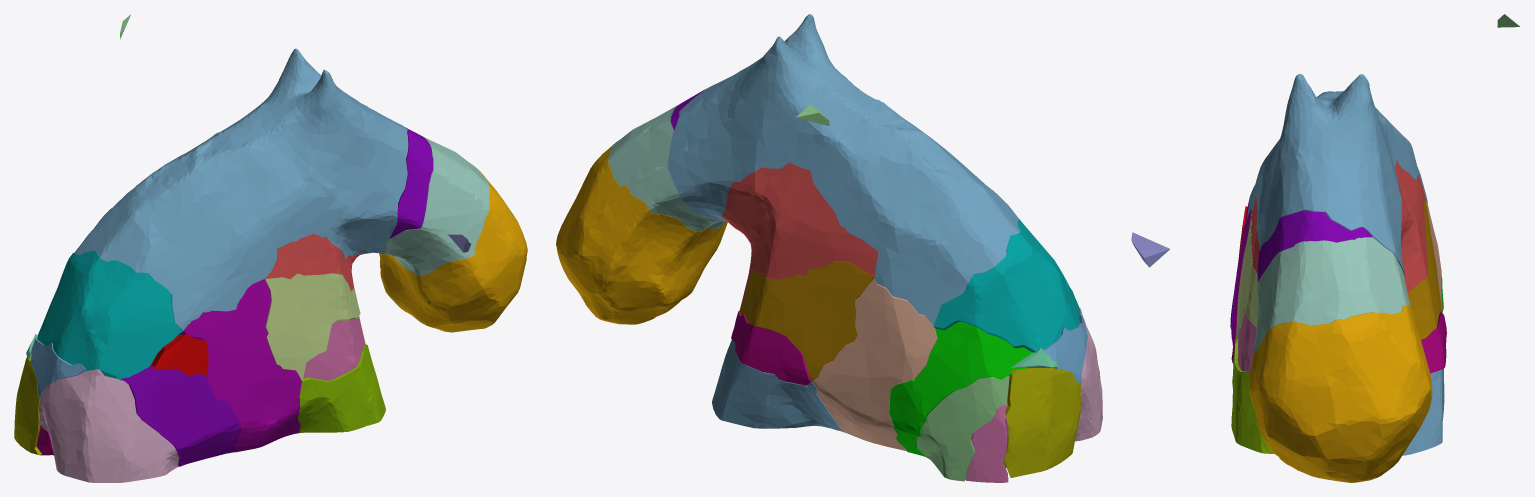
File: fractured_40_28pcs.glb
The picture shows the model from 3 angles, left to right: view 1: azimuth 30°, elevation 25°; view 2: azimuth 150°, elevation 25°; view 3: azimuth 270°, elevation 25°; orthographic projection. The views are drawn at different scales.
Parts seen in each view (by area): view 1: piece_2.obj, piece_13.obj, piece_6.obj, piece_12.obj, piece_0.obj, piece_4.obj, piece_18.obj, piece_5.obj, piece_14.obj, piece_1.obj, piece_16.obj, piece_21.obj (+3 smaller); view 2: piece_2.obj, piece_0.obj, piece_7.obj, piece_1.obj, piece_13.obj, piece_17.obj, piece_8.obj, piece_11.obj, piece_4.obj, piece_3.obj, piece_15.obj, piece_20.obj (+2 smaller); view 3: piece_0.obj, piece_2.obj, piece_4.obj, piece_1.obj, piece_16.obj, piece_14.obj, piece_17.obj, piece_5.obj, piece_15.obj, piece_21.obj, piece_12.obj, piece_26.obj (+1 smaller).
Part boxes in pixels (x1,y1,x2,y2): piece_2.obj: [74, 48, 408, 334]; piece_13.obj: [37, 251, 182, 380]; piece_6.obj: [39, 369, 179, 482]; piece_12.obj: [180, 279, 301, 452]; piece_0.obj: [379, 168, 527, 332]; piece_4.obj: [380, 136, 489, 275]; piece_18.obj: [120, 366, 240, 466]; piece_5.obj: [265, 273, 360, 380]; piece_14.obj: [298, 344, 385, 432]; piece_1.obj: [265, 233, 362, 290]; piece_16.obj: [389, 127, 433, 239]; piece_21.obj: [300, 316, 365, 380]; piece_2.obj: [668, 14, 1020, 430]; piece_0.obj: [556, 144, 727, 324]; piece_7.obj: [812, 278, 937, 450]; piece_1.obj: [721, 162, 878, 310]; piece_13.obj: [933, 219, 1080, 352]; piece_17.obj: [739, 261, 874, 381]; piece_8.obj: [889, 322, 1032, 456]; piece_11.obj: [1004, 367, 1080, 477]; piece_4.obj: [608, 103, 726, 231]; piece_3.obj: [916, 376, 1009, 481]; piece_15.obj: [731, 310, 811, 385]; piece_20.obj: [966, 404, 1008, 482]; piece_0.obj: [1249, 304, 1432, 482]; piece_2.obj: [1247, 74, 1444, 455]; piece_4.obj: [1254, 237, 1410, 352]; piece_1.obj: [1250, 161, 1427, 292]; piece_16.obj: [1257, 210, 1372, 282]; piece_14.obj: [1231, 339, 1274, 453]; piece_17.obj: [1407, 199, 1442, 339]; piece_5.obj: [1236, 214, 1257, 339]; piece_15.obj: [1421, 311, 1446, 373]; piece_21.obj: [1237, 309, 1256, 371]; piece_12.obj: [1231, 199, 1251, 362]; piece_26.obj: [1131, 232, 1169, 267].
Bounding box in the file's own units: 1.01 × 0.7057 × 0.667.
